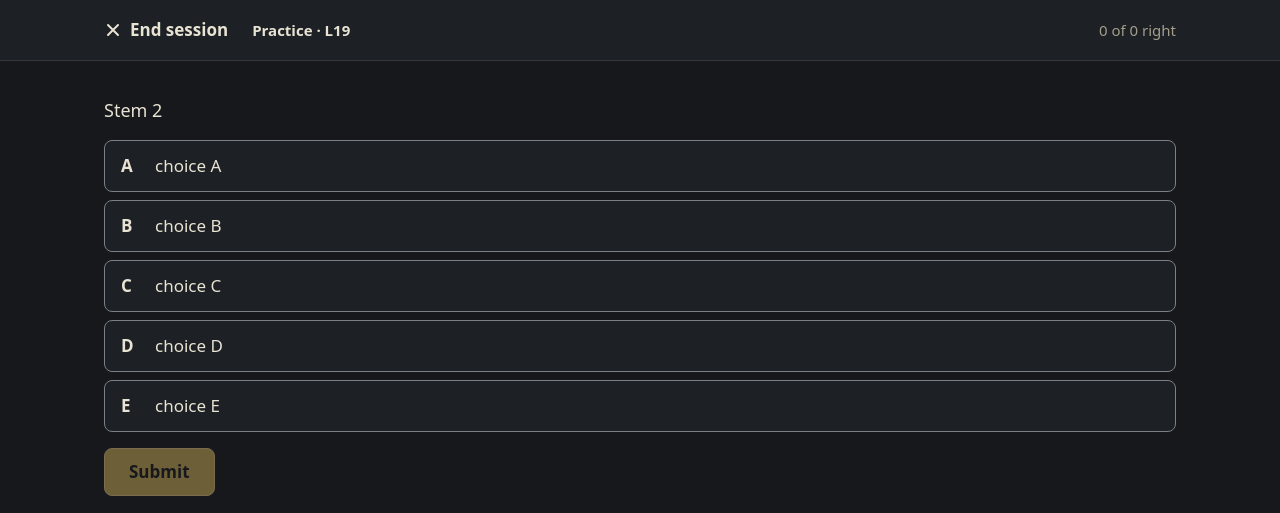
Test case: a practice session hides the navigation, and ending it brings the navigation back
The width and height of the screenshot is (1280, 513).
Check: the text "Stem 2" is shown, box [104, 98, 162, 122]
Check: the link "Settings" is not shown
Click the button "End session" at [166, 30], box [104, 8, 228, 52]
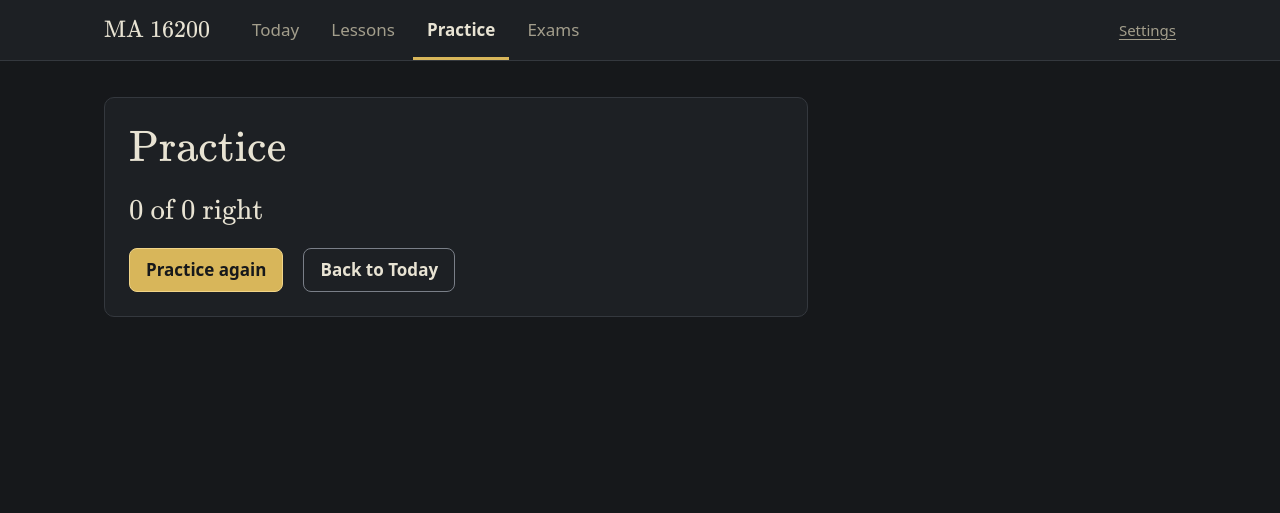
Check: the navigation bar named "Main" is shown, box [252, 0, 579, 60]
Check: the link "Back to Today" is shown, box [304, 248, 455, 292]
